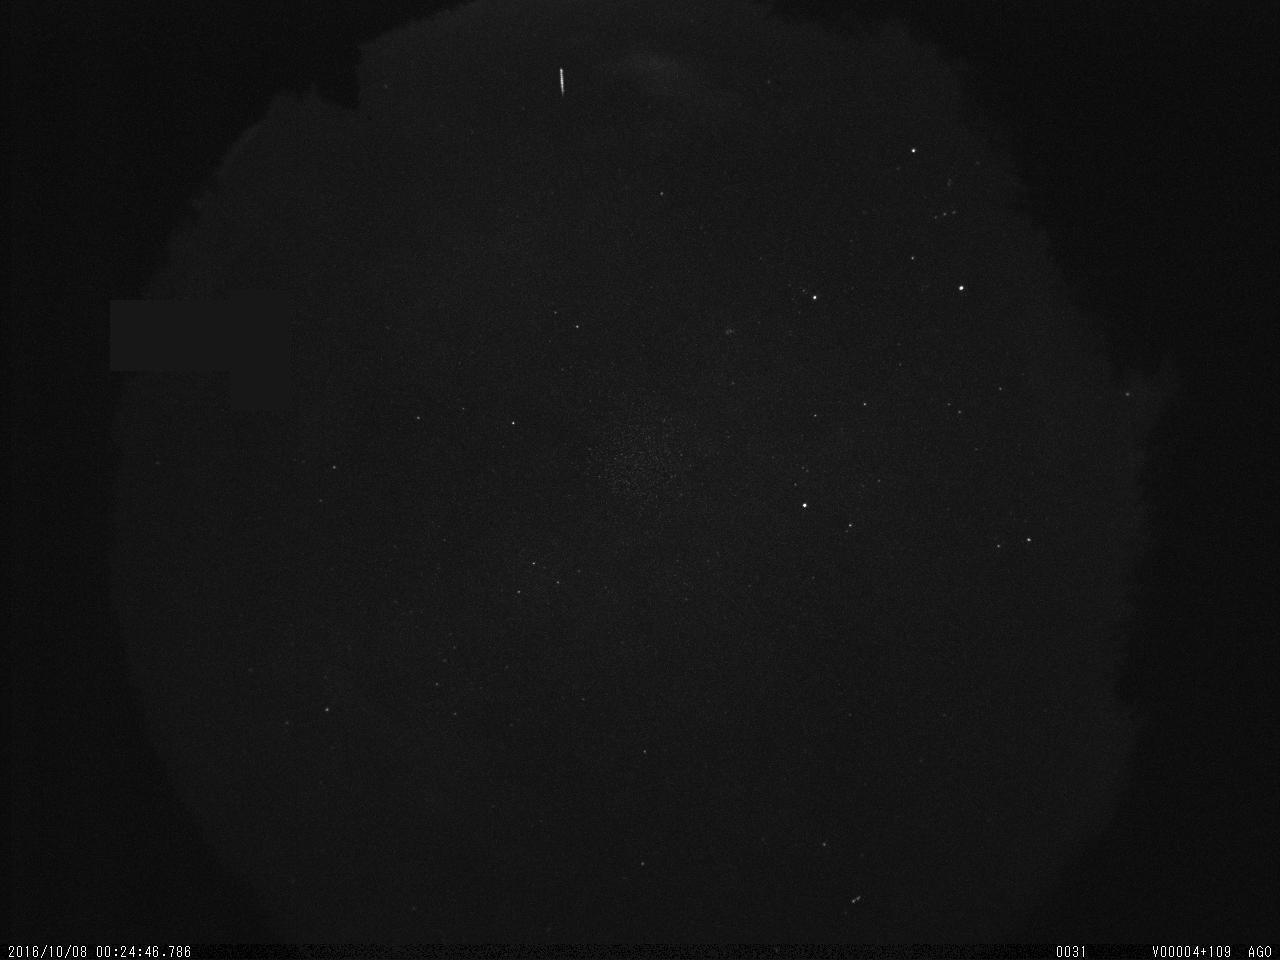Meteor: (555, 63, 570, 100)
